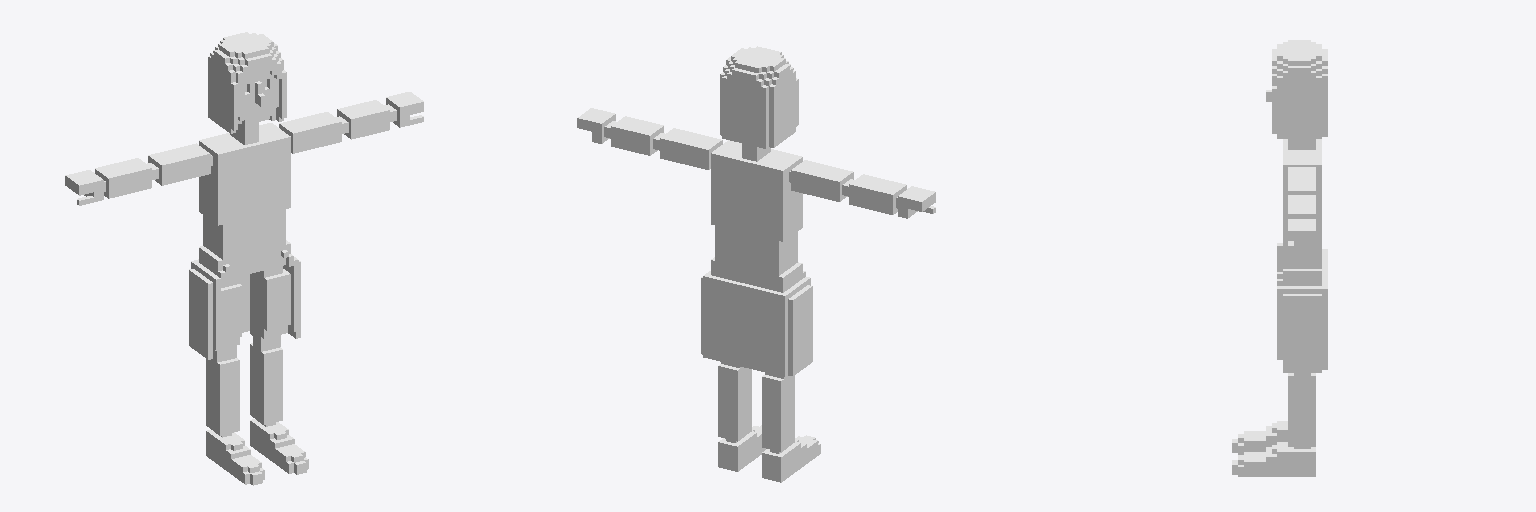
The model's file is doctor.obj.
3 renders of one model, left to right at view 1: azimuth 30°, elevation 25°; view 2: azimuth 150°, elevation 25°; view 3: azimuth 270°, elevation 25°, orthographic.
Parts seen in each view (by area): view 1: doctor; view 2: doctor; view 3: doctor.
Boxes of the visible parts, x1=… form: doctor: x1=65, y1=32, x2=423, y2=485; doctor: x1=577, y1=46, x2=935, y2=482; doctor: x1=1232, y1=40, x2=1327, y2=476.
Size of the model in its own units: 71 by 81 by 17.